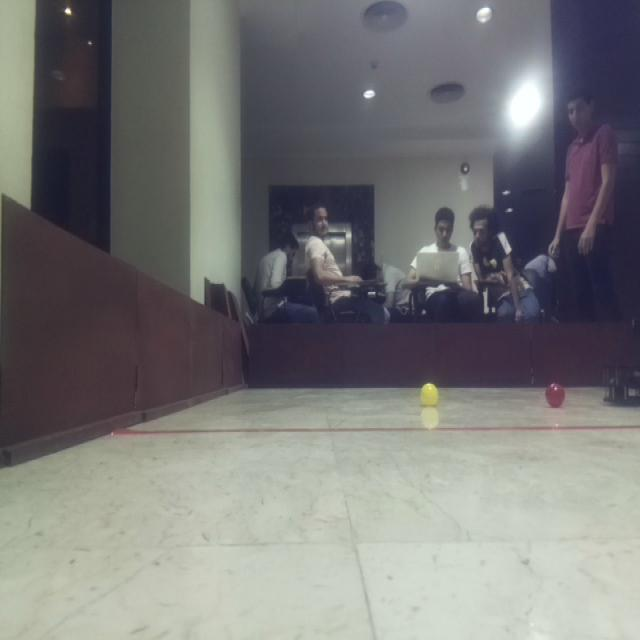ball: (543, 380, 570, 409), (417, 380, 442, 408)
